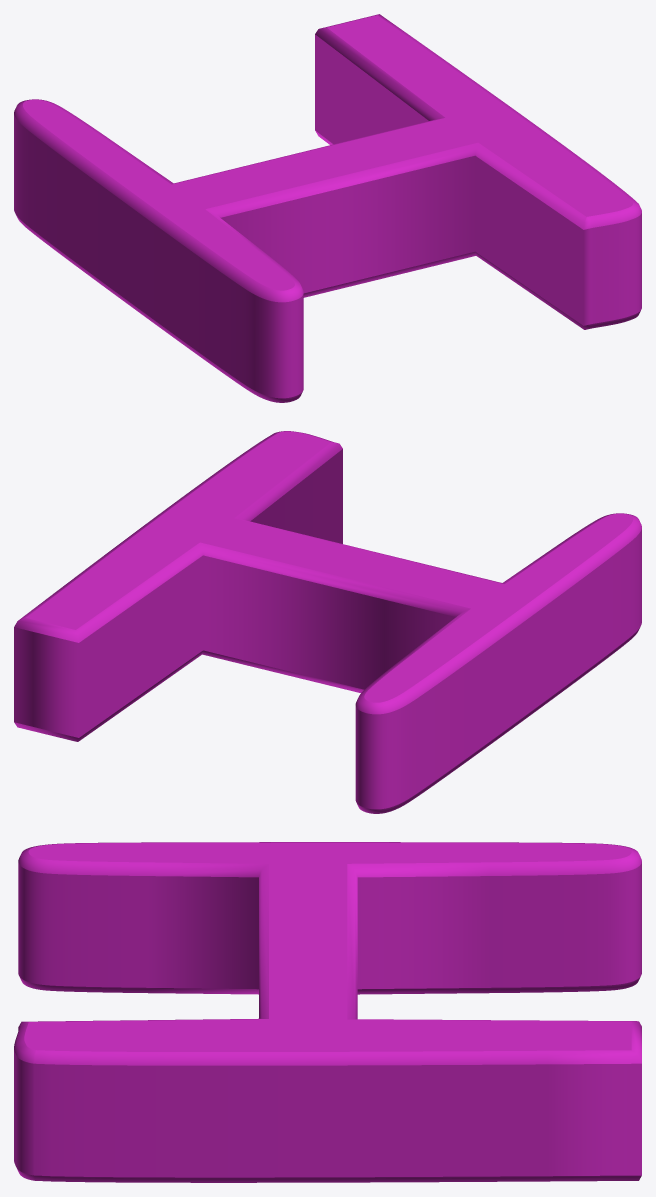
File: Blocky_LetterH.fbx
The picture shows the model from 3 angles, top to bottom: view 1: azimuth 30°, elevation 25°; view 2: azimuth 150°, elevation 25°; view 3: azimuth 270°, elevation 25°; orthographic projection. The views are drawn at different scales.
Visible parts, largest first — view 1: BlockyLetter_H; view 2: BlockyLetter_H; view 3: BlockyLetter_H.
Boxes of the visible parts, box(x1,y1,x2,y2) form: BlockyLetter_H: box(14, 14, 641, 402); BlockyLetter_H: box(14, 431, 641, 813); BlockyLetter_H: box(14, 842, 641, 1182).
Size of the model in its own units: 0.5026 by 0.14 by 0.611.
